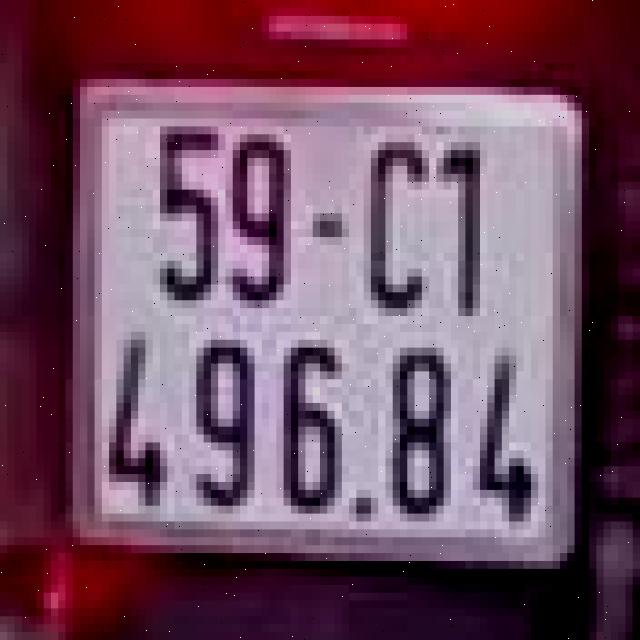1: (440, 138, 491, 320)
4: (98, 328, 178, 517), (480, 320, 538, 549)
5: (138, 111, 226, 308)
6: (269, 340, 342, 521)
8: (371, 324, 473, 529)
9: (222, 111, 309, 308), (186, 320, 266, 510)
C: (360, 130, 433, 320)
